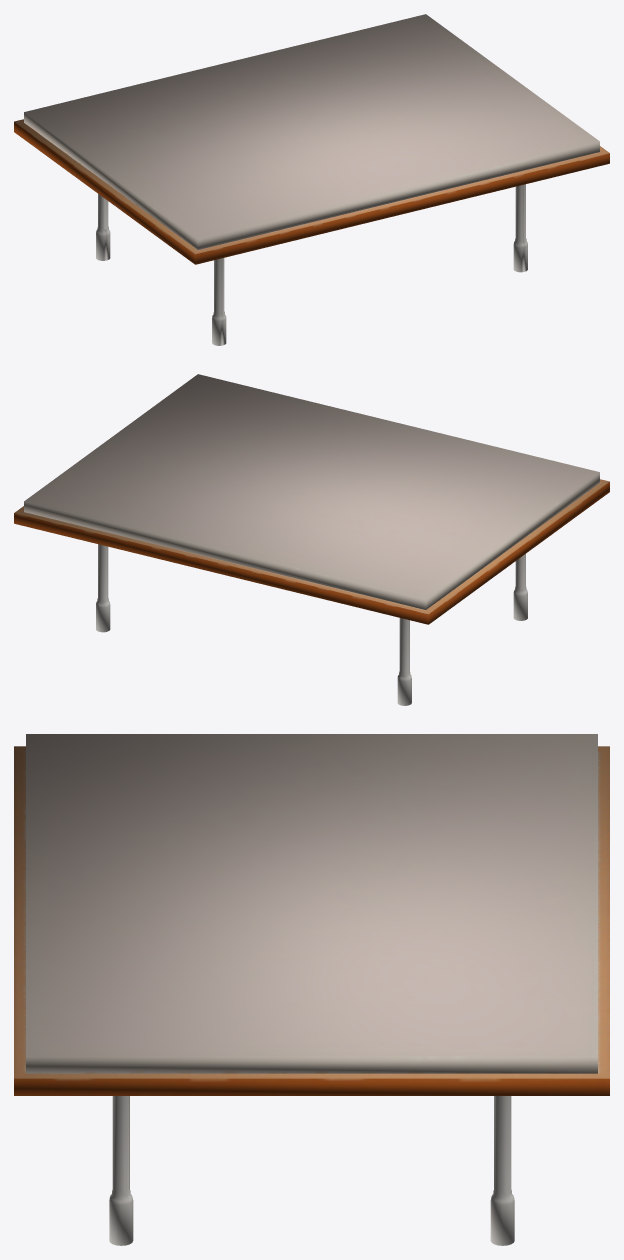
File: station-canopy-tripo-original.glb
The picture shows the model from 3 angles, top to bottom: view 1: azimuth 30°, elevation 25°; view 2: azimuth 150°, elevation 25°; view 3: azimuth 270°, elevation 25°; orthographic projection. The views are drawn at different scales.
Visible parts, largest first — view 1: Authored_surface_015; view 2: Authored_surface_015; view 3: Authored_surface_015.
Boxes of the visible parts, bbox=[...] form: Authored_surface_015: bbox=[14, 14, 609, 345]; Authored_surface_015: bbox=[14, 374, 609, 705]; Authored_surface_015: bbox=[14, 734, 609, 1245].
Bounding box in the file's own units: 1 × 0.3152 × 0.7576.
Materials: 1 (1 with a texture image).
